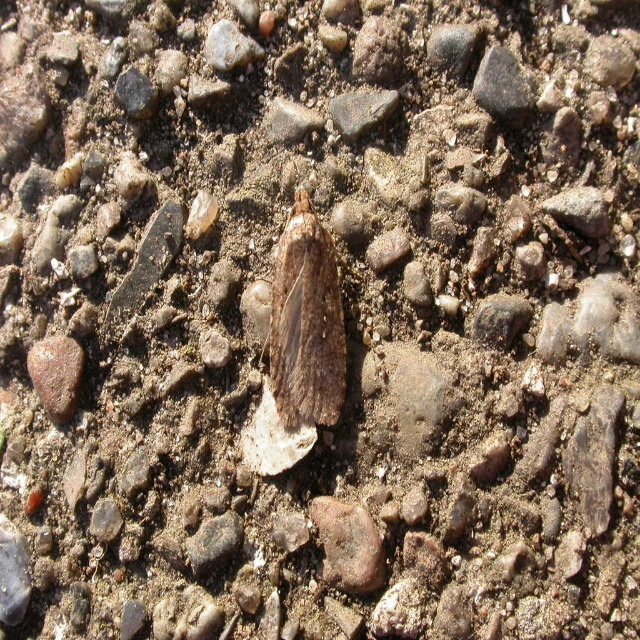Moths and butterflies: (254, 161, 350, 431)
